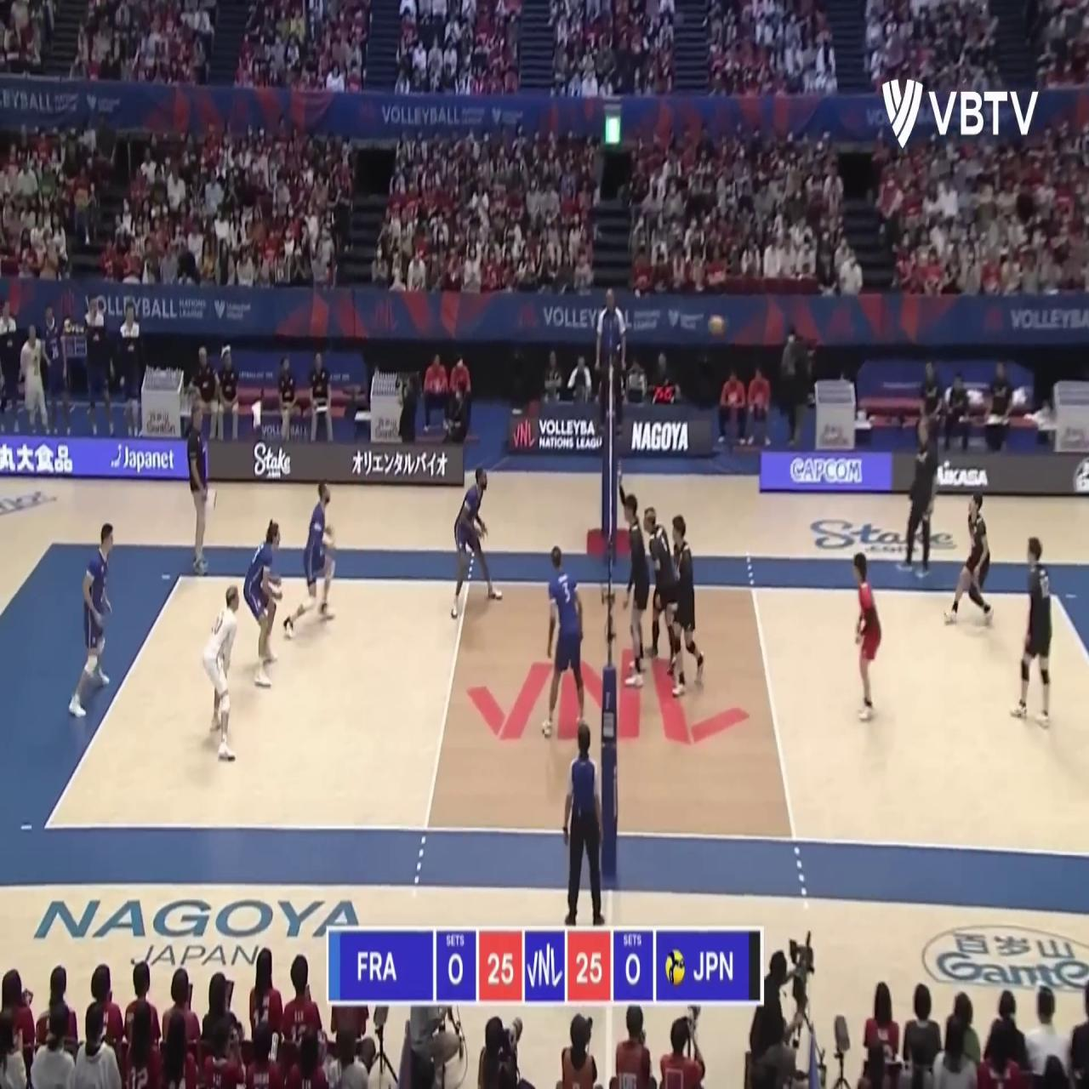ball: (707, 313, 726, 339)
